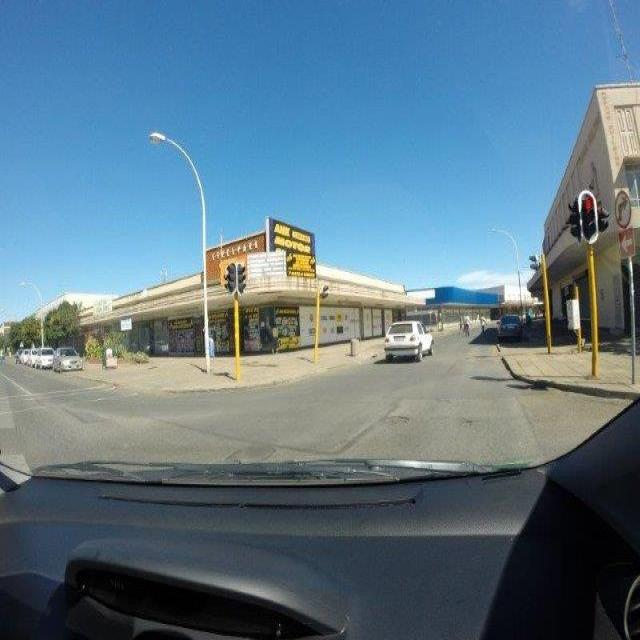lubang: (371, 412, 415, 427), (460, 411, 476, 433)
